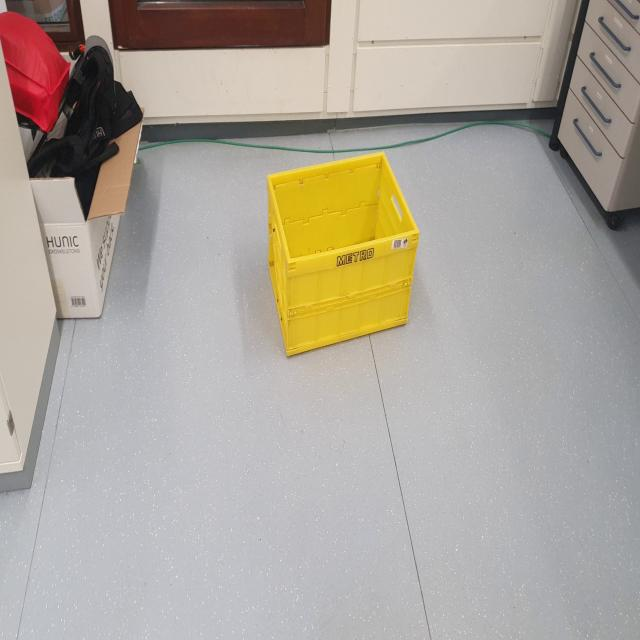box: (256, 147, 425, 366)
